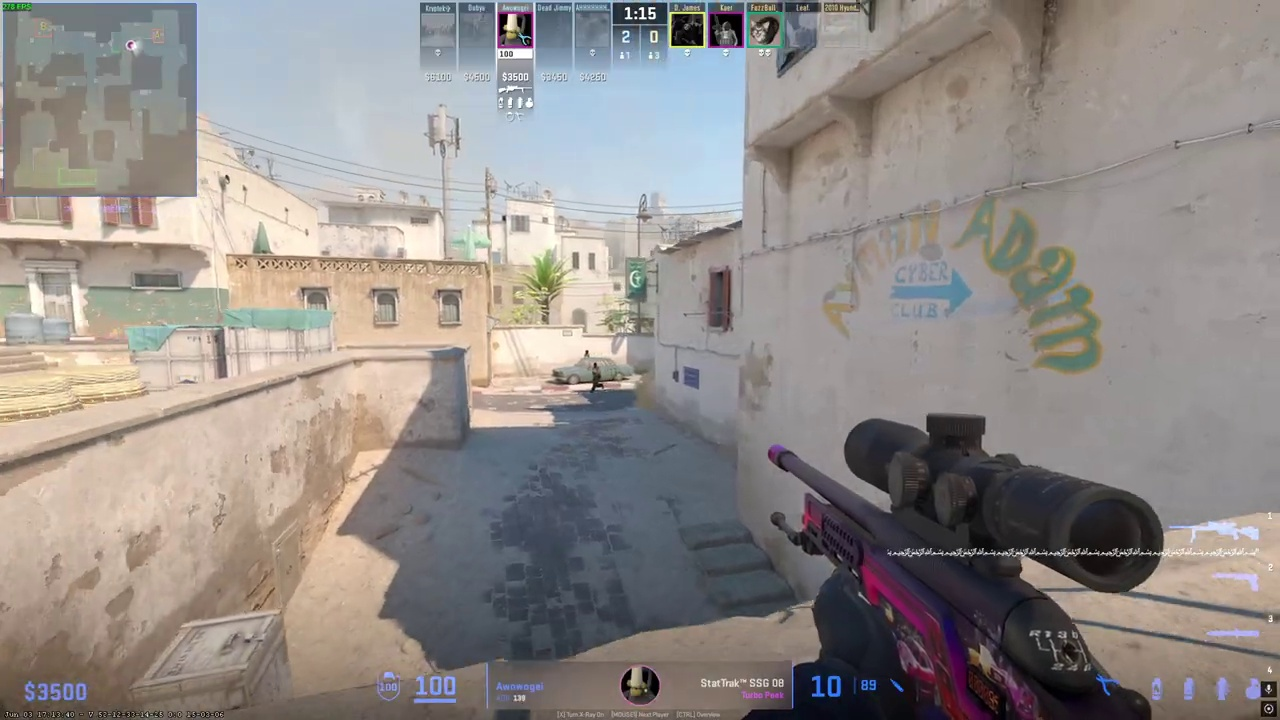Terrorist: (589, 362, 603, 391)
